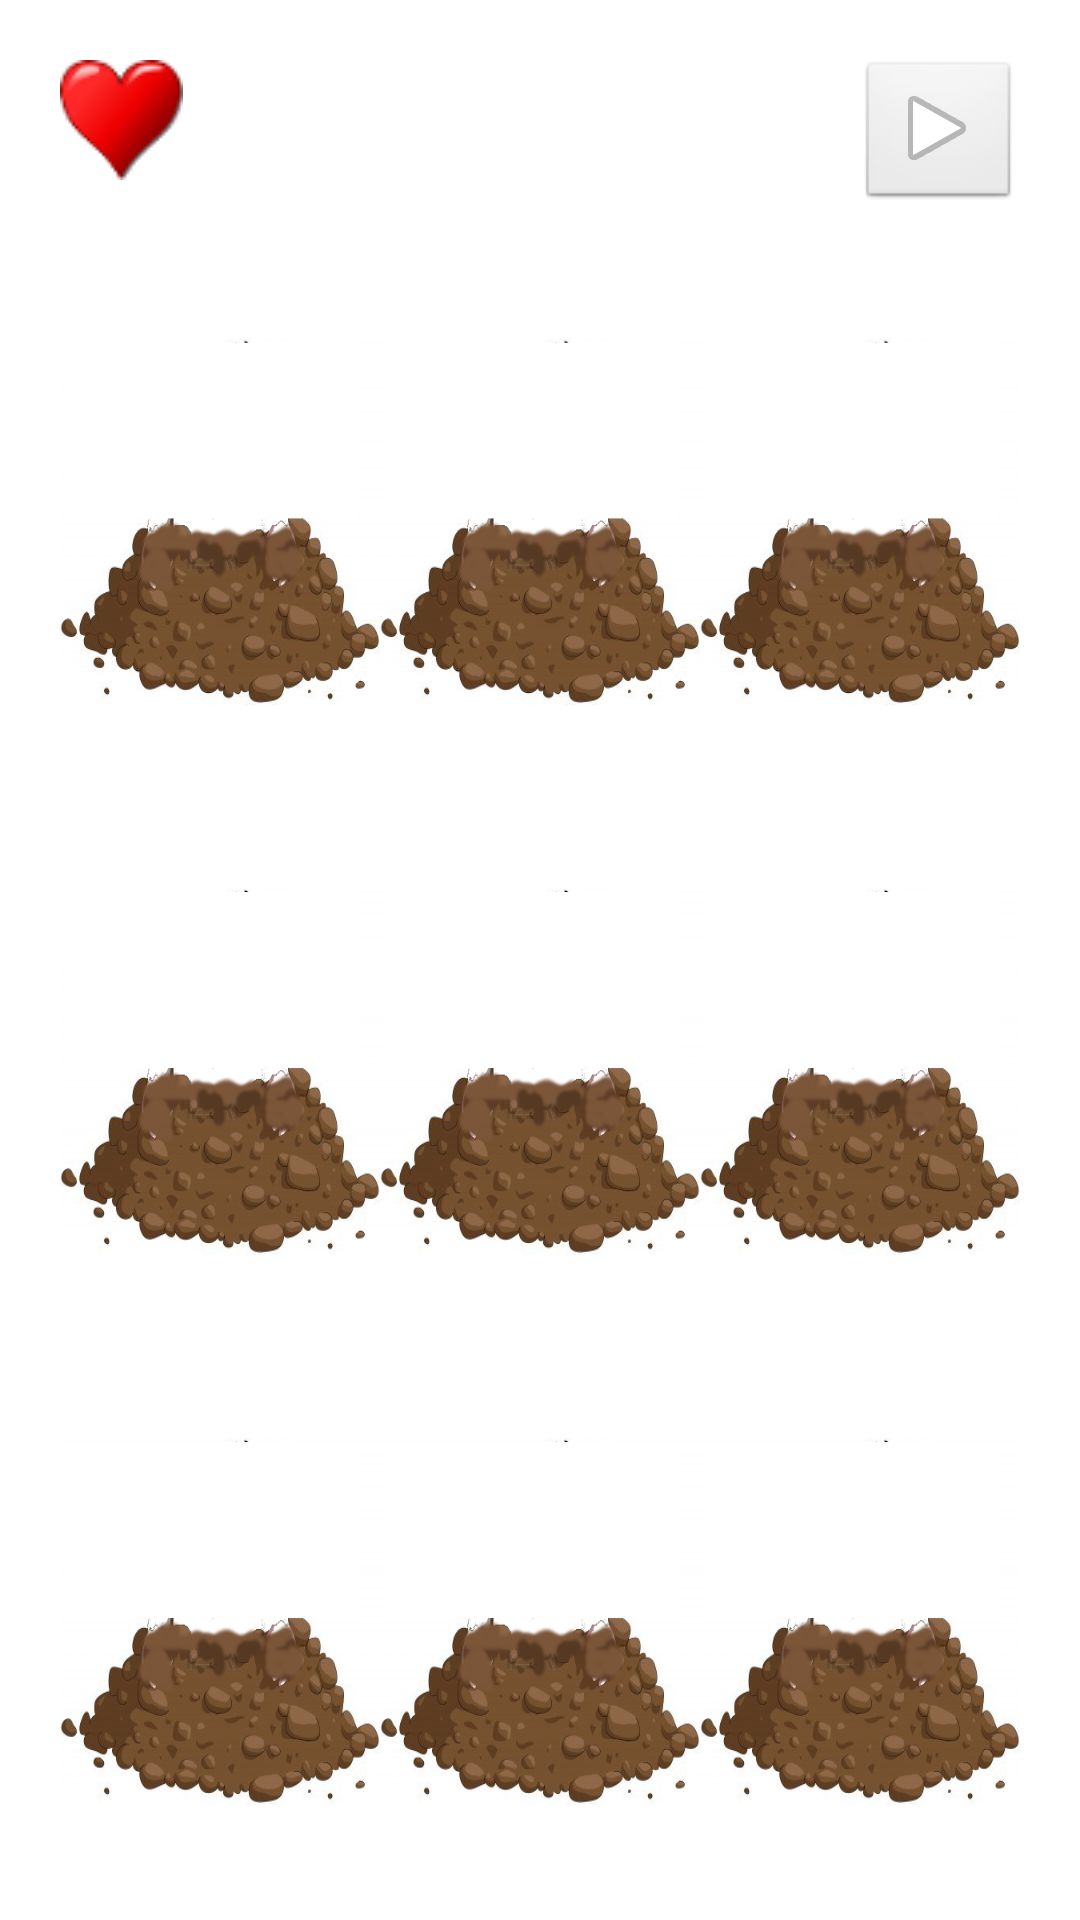

Icons on this 1080*1920 Android screen, each with its box as (x1, y1, x2, y2):
Play/Pause: (865, 62, 1012, 199)
